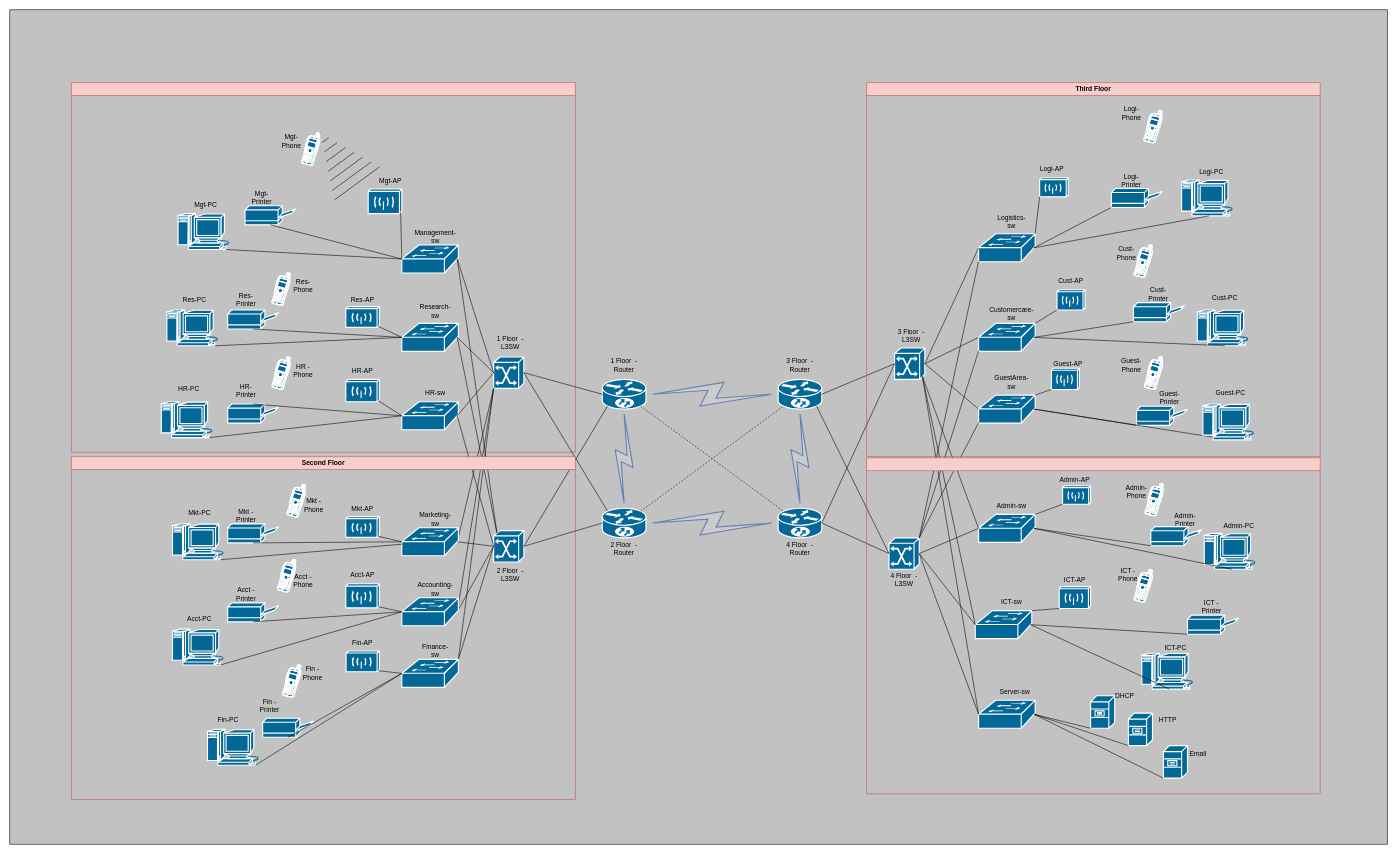
Image size: 1397x854. Some labels were removed from this diagram. Each missing label, with the centre of its shape:
"First Floor" belongs at pixel 323 267.
"Forth Floor" belongs at pixel 1093 625.
